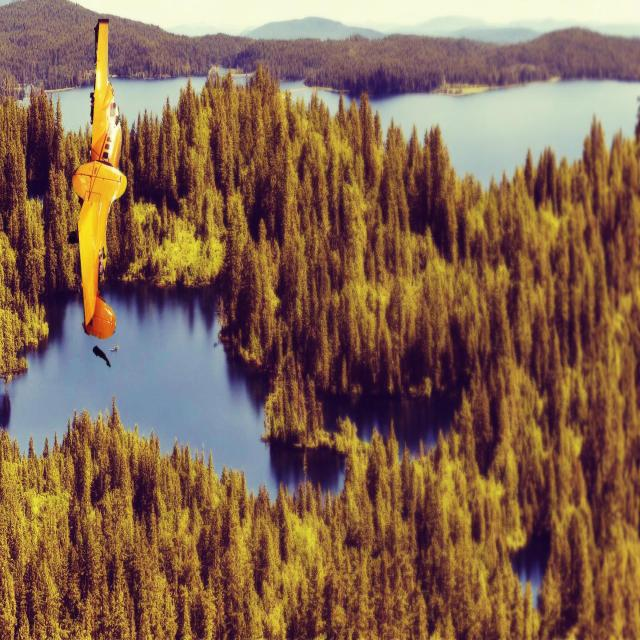airplane: (70, 17, 127, 340)
